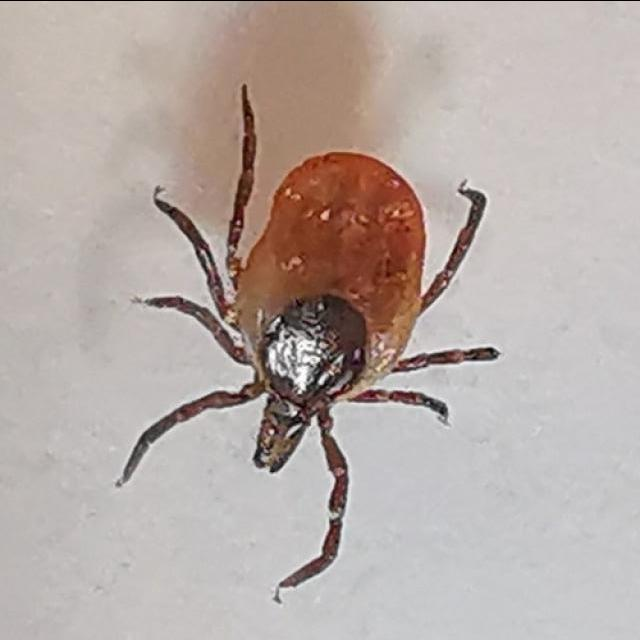Ixodes Ricinus-F: (113, 83, 498, 596)
